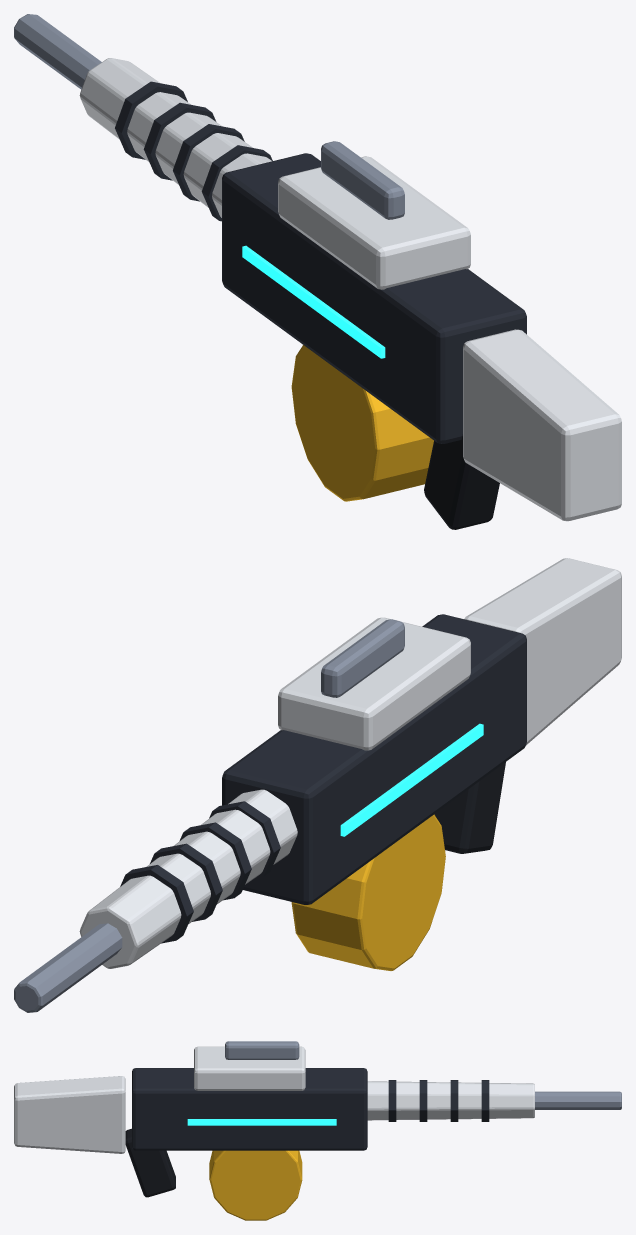
The model's file is lmg.glb.
3 renders of one model, top to bottom at view 1: azimuth 30°, elevation 25°; view 2: azimuth 150°, elevation 25°; view 3: azimuth 270°, elevation 25°, orthographic. The views are drawn at different scales.
Visible parts, largest first — view 1: receiver, stock, cover, drum, shroud, grip, carry, barrel, strip2, vent3, vent2, vent1 (+1 smaller); view 2: receiver, stock, drum, cover, shroud, barrel, grip, carry, strip2, vent3, vent2, vent1 (+1 smaller); view 3: receiver, stock, drum, shroud, cover, grip, barrel, carry, strip, vent0, vent1, vent2 (+1 smaller).
Part boxes in pixels (<box>): receiver: <box>222,153,526,443</box>; stock: <box>463,329,621,521</box>; cover: <box>278,156,470,289</box>; drum: <box>291,345,433,501</box>; shroud: <box>79,58,271,217</box>; grip: <box>424,434,499,529</box>; carry: <box>321,141,404,219</box>; barrel: <box>14,14,101,89</box>; strip2: <box>242,245,385,358</box>; vent3: <box>115,81,187,159</box>; vent2: <box>143,102,216,180</box>; vent1: <box>173,124,244,201</box>; receiver: <box>222,614,526,904</box>; stock: <box>464,558,621,745</box>; drum: <box>291,814,445,970</box>; cover: <box>278,617,470,750</box>; shroud: <box>79,789,297,968</box>; barrel: <box>14,923,122,1012</box>; grip: <box>434,762,505,853</box>; carry: <box>321,619,404,697</box>; strip2: <box>340,723,483,836</box>; vent3: <box>120,865,193,943</box>; vent2: <box>150,843,222,921</box>; vent1: <box>179,822,251,900</box>; receiver: <box>132,1068,367,1150</box>; stock: <box>14,1076,125,1153</box>; drum: <box>209,1150,302,1220</box>; shroud: <box>367,1081,534,1120</box>; cover: <box>194,1046,305,1090</box>; grip: <box>125,1128,175,1197</box>; barrel: <box>535,1091,621,1109</box>; carry: <box>225,1041,299,1059</box>; strip: <box>187,1119,336,1125</box>; vent0: <box>388,1080,396,1121</box>; vent1: <box>419,1080,427,1121</box>; vent2: <box>450,1080,458,1121</box>.
Size of the model in its own units: 0.102 by 0.3021 by 0.98.
